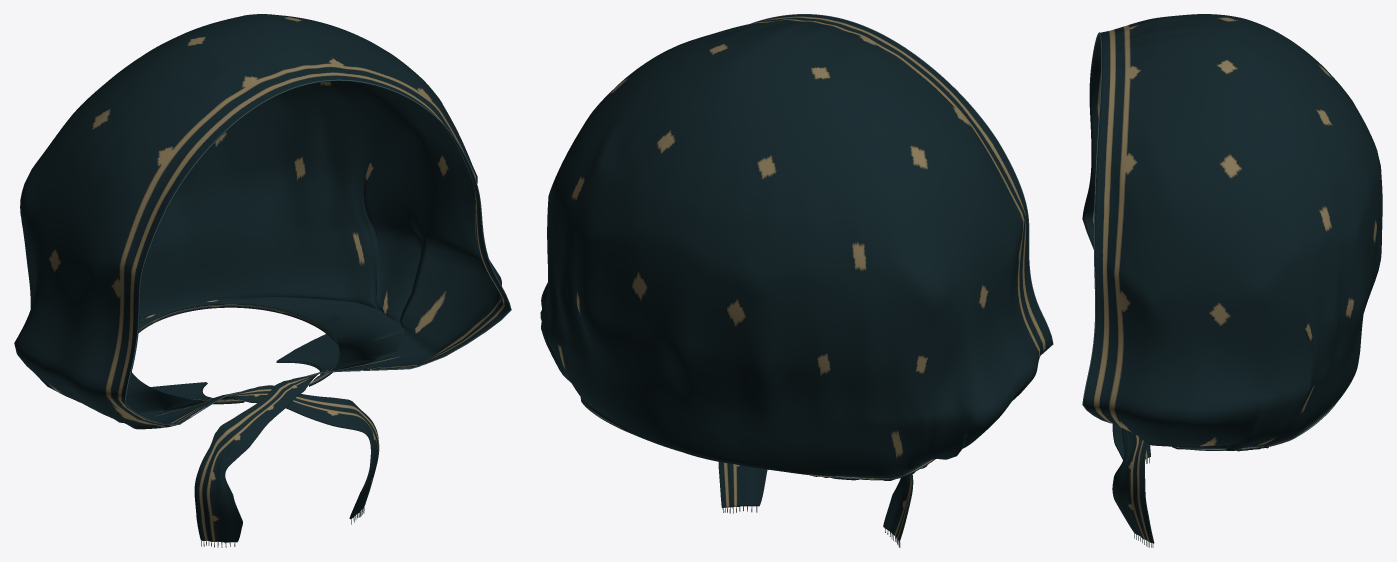
Rendered from Feminine-curls-sweatshirt-pashmina249-headgear.glb.
3 renders of one model, left to right at view 1: azimuth 30°, elevation 25°; view 2: azimuth 150°, elevation 25°; view 3: azimuth 270°, elevation 25°, orthographic. The views are drawn at different scales.
Visible parts, largest first — view 1: 226 headgear / Headwear / continuous woven pashmina239, 226 headgear / Headwear / face edge239; view 2: 226 headgear / Headwear / continuous woven pashmina239, 226 headgear / Headwear / face edge239; view 3: 226 headgear / Headwear / continuous woven pashmina239, 226 headgear / Headwear / face edge239.
Part boxes in pixels (bbox=[...]): 226 headgear / Headwear / continuous woven pashmina239: bbox=[14, 14, 510, 542]; 226 headgear / Headwear / face edge239: bbox=[124, 79, 511, 425]; 226 headgear / Headwear / continuous woven pashmina239: bbox=[540, 14, 1052, 541]; 226 headgear / Headwear / face edge239: bbox=[751, 14, 1053, 354]; 226 headgear / Headwear / continuous woven pashmina239: bbox=[1082, 14, 1382, 543]; 226 headgear / Headwear / face edge239: bbox=[1082, 32, 1111, 423].
Bounding box in the file's own units: 1.34 × 1.41 × 0.8037.
3 materials, 1 textured.
